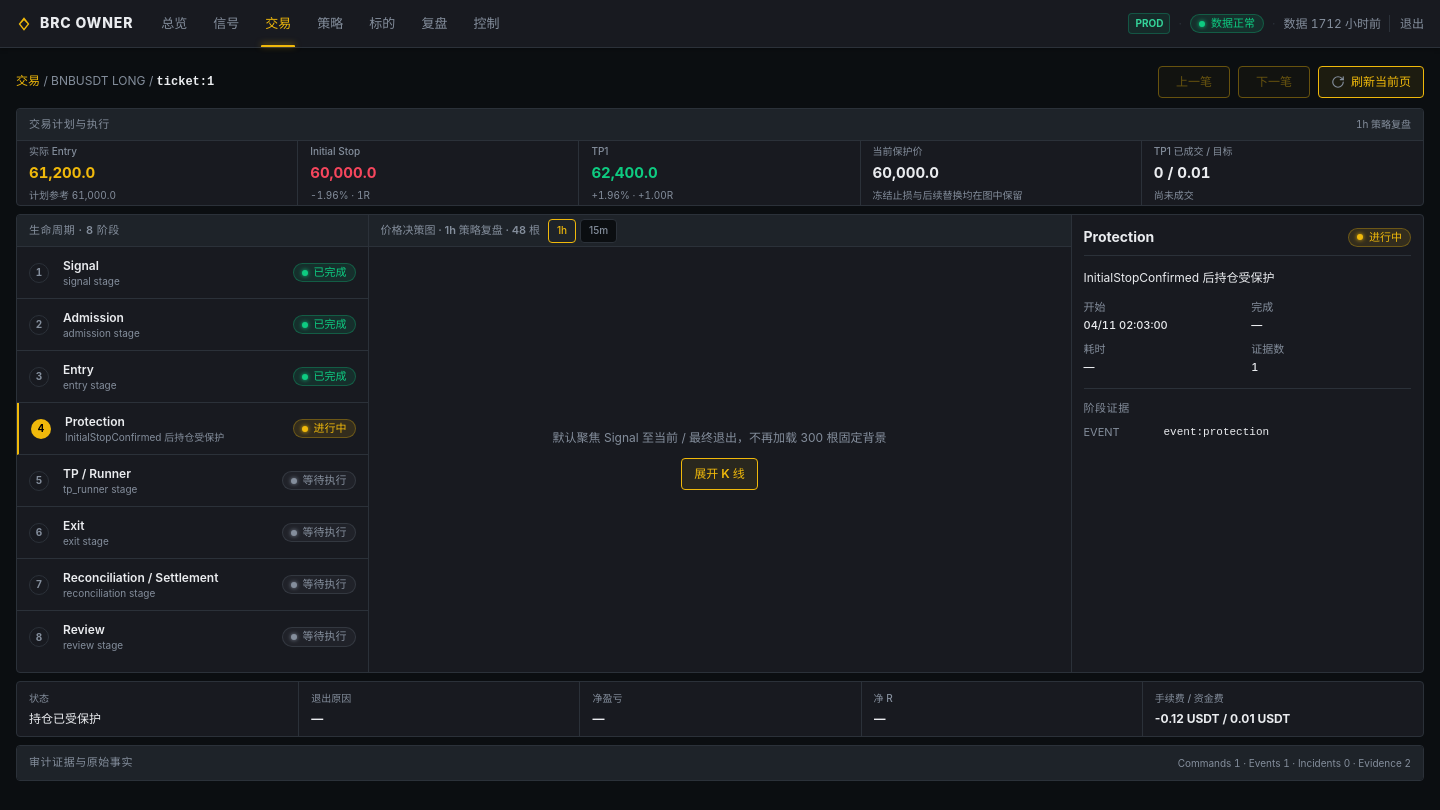
Test case: keeps lifecycle facts visible when public candles fail
Click the button "展开 K 线": (719, 474) top-left (681, 458), bottom-right (758, 490)
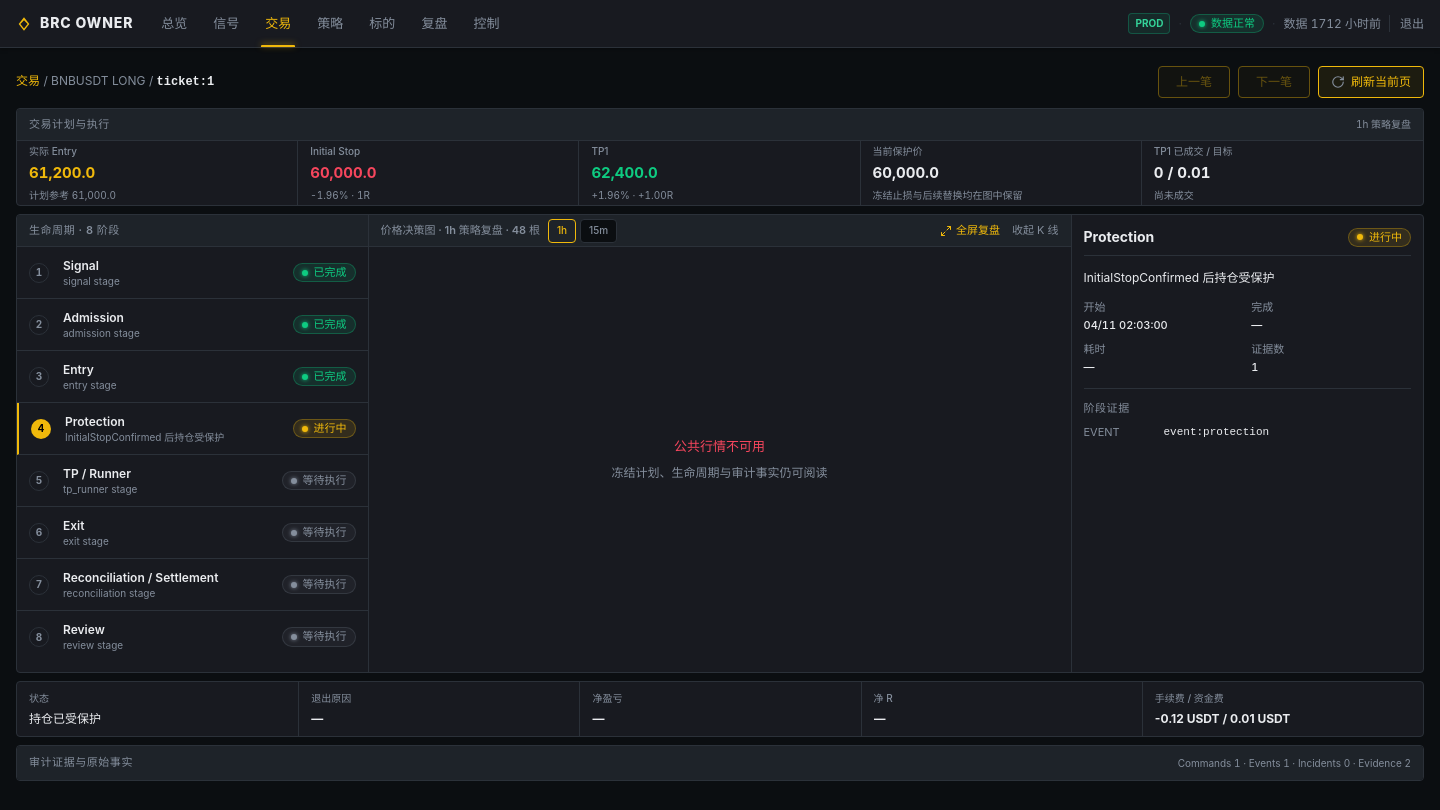
Now the text "公共行情不可用" is shown, box top-left (674, 438), bottom-right (765, 454)
